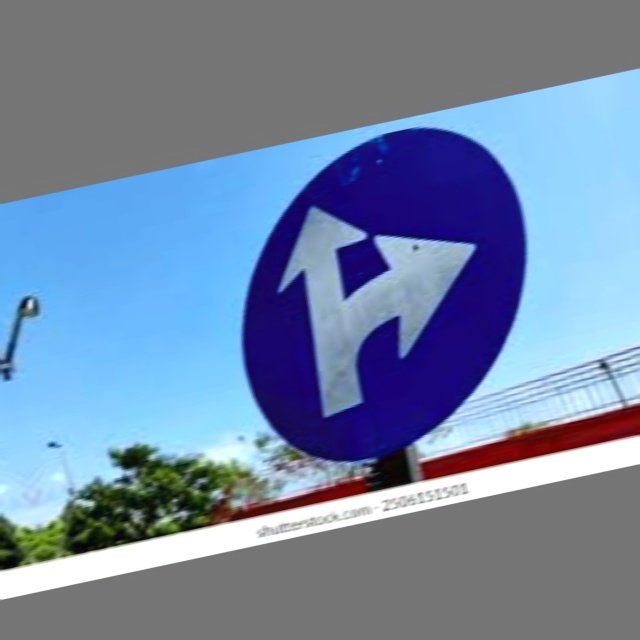Compulsory_Ahead_or_Turn_Right: (211, 122, 557, 484)
